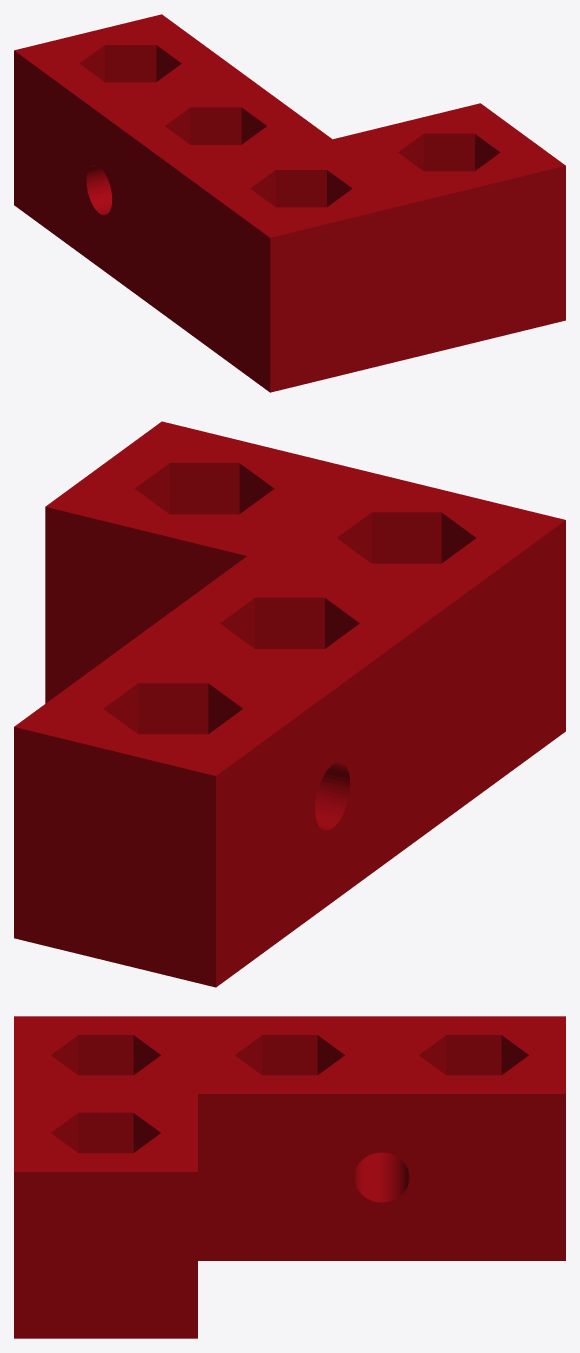
The model's file is L_Piece_4_hole_1_side_hole.glb.
3 views of the same model, one above another, from view 1: azimuth 30°, elevation 25°; view 2: azimuth 150°, elevation 25°; view 3: azimuth 270°, elevation 25° (orthographic). The views are drawn at different scales.
Visible parts, largest first — view 1: main.003; view 2: main.003; view 3: main.003.
Boxes of the visible parts, box(x1,y1,x2,y2) form: main.003: box(14, 14, 565, 392); main.003: box(14, 421, 565, 987); main.003: box(14, 1016, 565, 1338).
Size of the model in its own units: 0.02 by 0.01 by 0.03.
